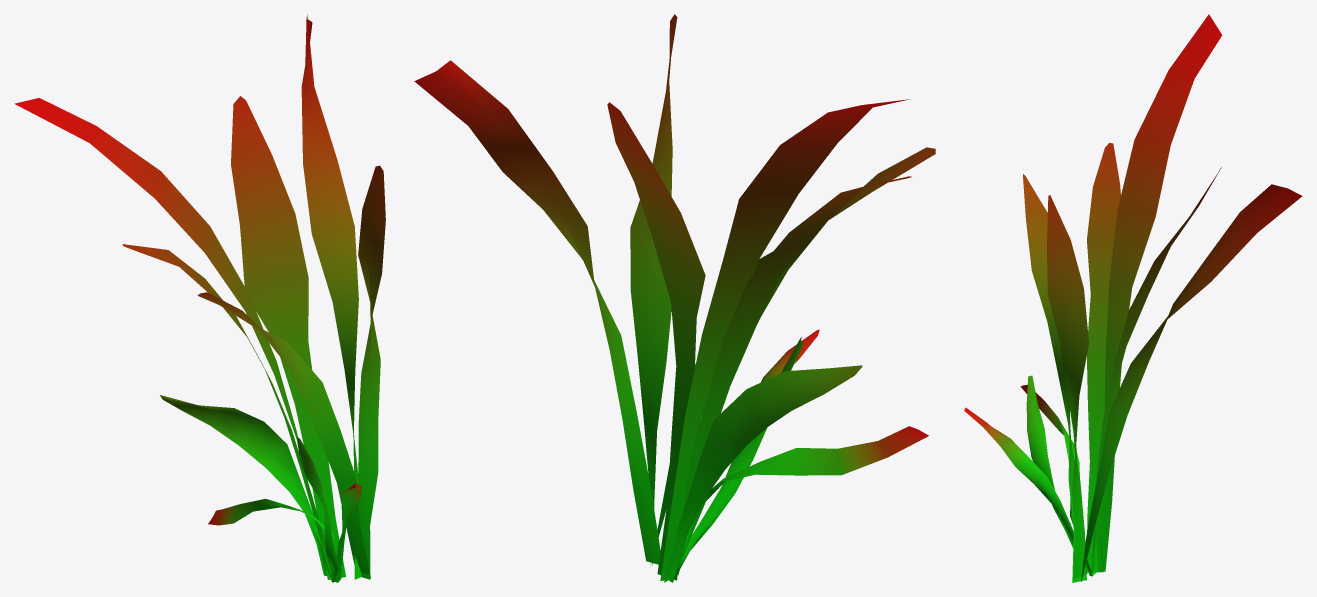
File: Snake Plant_LOD1_Var3_sgtmY.fbx
3 renders of one model, left to right at view 1: azimuth 30°, elevation 25°; view 2: azimuth 150°, elevation 25°; view 3: azimuth 270°, elevation 25°, orthographic. The views are drawn at different scales.
Parts seen in each view (by area): view 1: _8a7d_Var3_LOD1; view 2: _8a7d_Var3_LOD1; view 3: _8a7d_Var3_LOD1.
Boxes of the visible parts, x1=… form: _8a7d_Var3_LOD1: x1=14, y1=14, x2=385, y2=582; _8a7d_Var3_LOD1: x1=414, y1=14, x2=935, y2=582; _8a7d_Var3_LOD1: x1=964, y1=14, x2=1302, y2=582.
Bounding box in the file's own units: 69.23 × 94.85 × 64.84.
